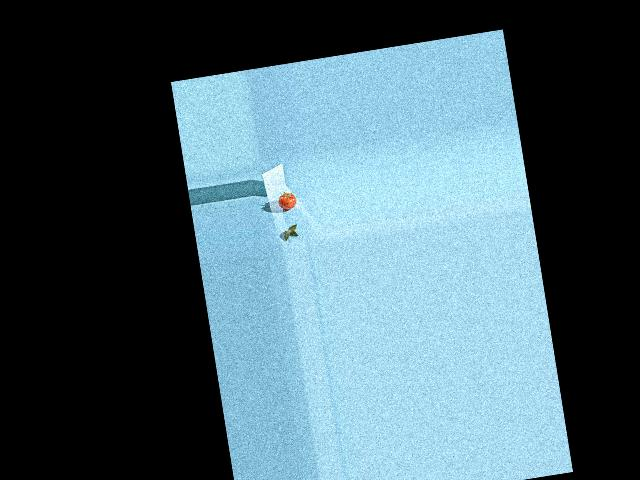tomato: (276, 191, 297, 210)
